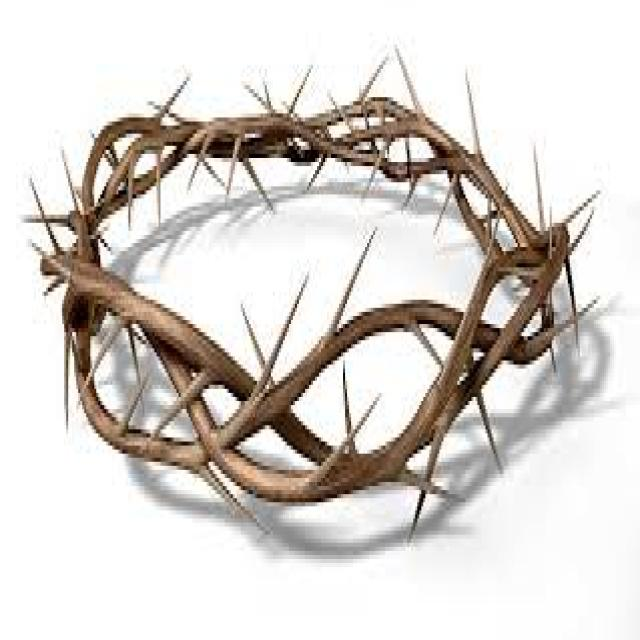crown: (27, 83, 596, 562)
